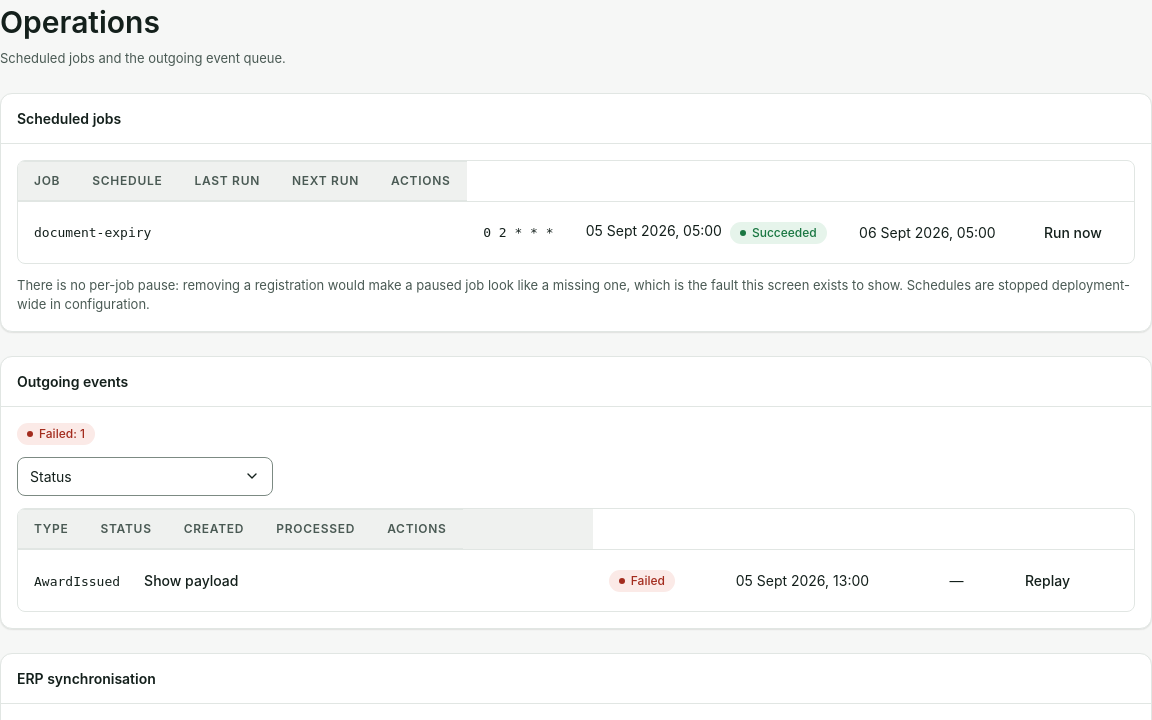
Test case: OperationsPage (SCR-721) › says so when a replay is refused
The width and height of the screenshot is (1152, 720).
Step 1. Click the button "Replay" → [1048, 580], box [1009,562,1086,598]
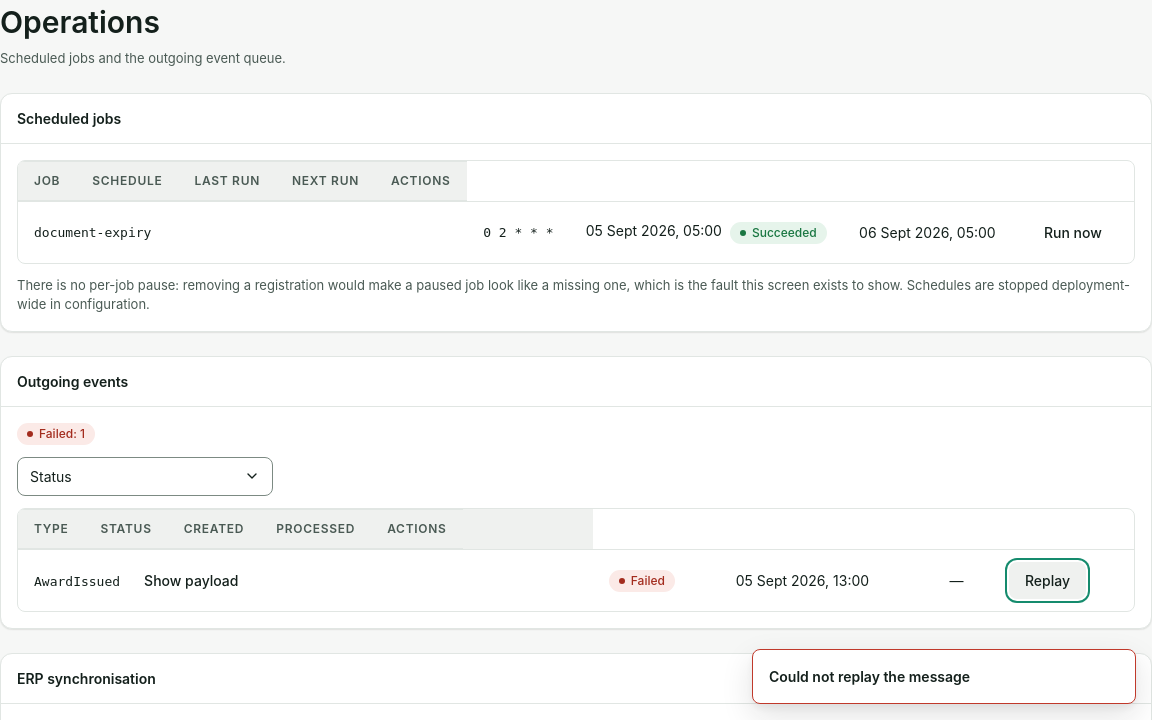
Check: the text "Could not replay the message" is shown, box [769,668,970,685]
